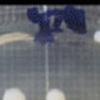white: (43, 85, 68, 100), (1, 86, 27, 100), (91, 30, 100, 45)
